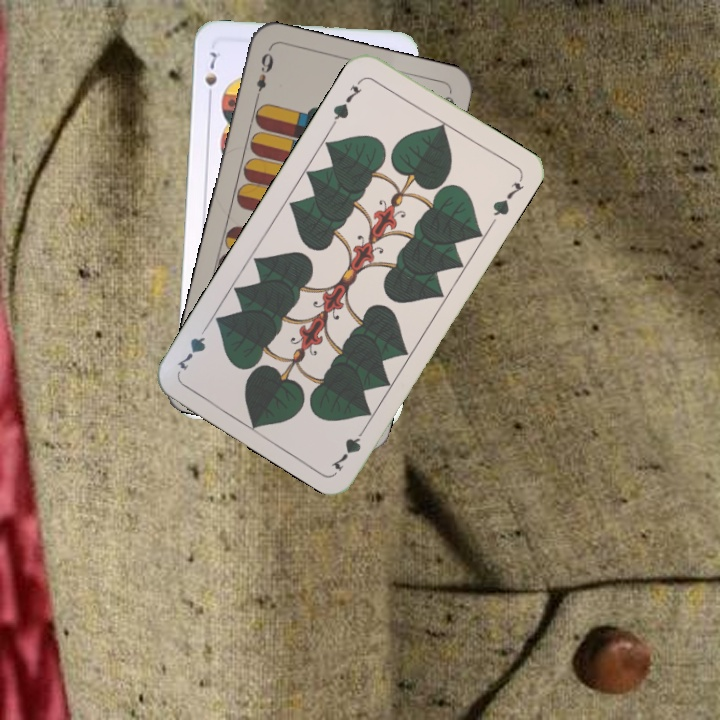E9: (251, 48, 276, 104)
G7: (327, 420, 371, 474), (328, 80, 365, 128)
S7: (201, 47, 220, 104)
